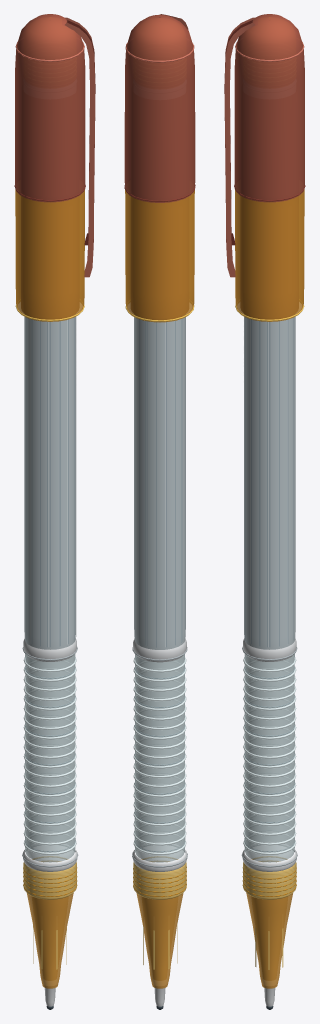
File: matador-all-time.glb
The picture shows the model from 3 angles, left to right: view 1: azimuth 90°, elevation 25°; view 2: azimuth 150°, elevation 25°; view 3: azimuth 270°, elevation 25°; orthographic projection.
Visible parts, largest first — view 1: Silver long barrel, Cap oxblood upper sleeve, Transparent grip core, Cap amber lower sleeve, Cap interior barrel, Thirty-four tactile grip ribs, Barrel longitudinal dark channels, Amber translucent tip, Barrel longitudinal mirror highlights, Burgundy arched pocket clip, Tip gold threaded collar, Lower barrel chrome join (+6 smaller); view 2: Silver long barrel, Cap oxblood upper sleeve, Transparent grip core, Cap amber lower sleeve, Cap interior barrel, Thirty-four tactile grip ribs, Amber translucent tip, Barrel longitudinal dark channels, Tip gold threaded collar, Barrel longitudinal mirror highlights, Barrel longitudinal dark reflections, Lower barrel chrome join (+4 smaller); view 3: Silver long barrel, Cap oxblood upper sleeve, Transparent grip core, Cap amber lower sleeve, Cap interior barrel, Thirty-four tactile grip ribs, Barrel longitudinal dark channels, Amber translucent tip, Burgundy arched pocket clip, Tip gold threaded collar, Barrel longitudinal mirror highlights, Lower barrel chrome join (+6 smaller).
Part boxes in pixels (x1,y1,x2,y2): Silver long barrel: (24,316,75,649); Cap oxblood upper sleeve: (15,14,85,202); Transparent grip core: (25,653,75,862); Cap amber lower sleeve: (15,188,85,321); Cap interior barrel: (21,196,78,318); Thirty-four tactile grip ribs: (23,656,76,854); Barrel longitudinal dark channels: (26,317,74,647); Amber translucent tip: (27,893,73,988); Barrel longitudinal mirror highlights: (30,317,76,647); Burgundy arched pocket clip: (64,17,95,277); Tip gold threaded collar: (23,862,76,899); Lower barrel chrome join: (23,638,76,661); Silver long barrel: (134,317,185,649); Cap oxblood upper sleeve: (124,14,195,202); Transparent grip core: (134,653,185,862); Cap amber lower sleeve: (125,189,194,322); Cap interior barrel: (131,197,188,319); Thirty-four tactile grip ribs: (133,657,186,855); Amber translucent tip: (136,893,183,988); Barrel longitudinal dark channels: (139,319,182,647); Tip gold threaded collar: (133,862,186,899); Barrel longitudinal mirror highlights: (145,319,181,647); Barrel longitudinal dark reflections: (145,319,181,645); Lower barrel chrome join: (133,638,186,662); Silver long barrel: (244,316,295,649); Cap oxblood upper sleeve: (234,14,304,202); Transparent grip core: (244,653,294,862); Cap amber lower sleeve: (234,188,304,321); Cap interior barrel: (241,196,298,318); Thirty-four tactile grip ribs: (243,656,296,854); Barrel longitudinal dark channels: (245,317,293,647); Amber translucent tip: (246,893,292,988); Burgundy arched pocket clip: (224,17,255,277); Tip gold threaded collar: (243,862,296,899); Barrel longitudinal mirror highlights: (250,319,287,647); Lower barrel chrome join: (243,638,296,661).
Bounding box in the file's own units: 0.00971 × 0.1485 × 0.011.
